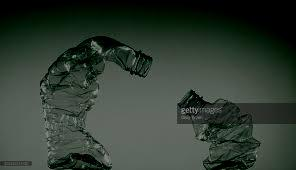Plastic: (37, 30, 152, 169)
